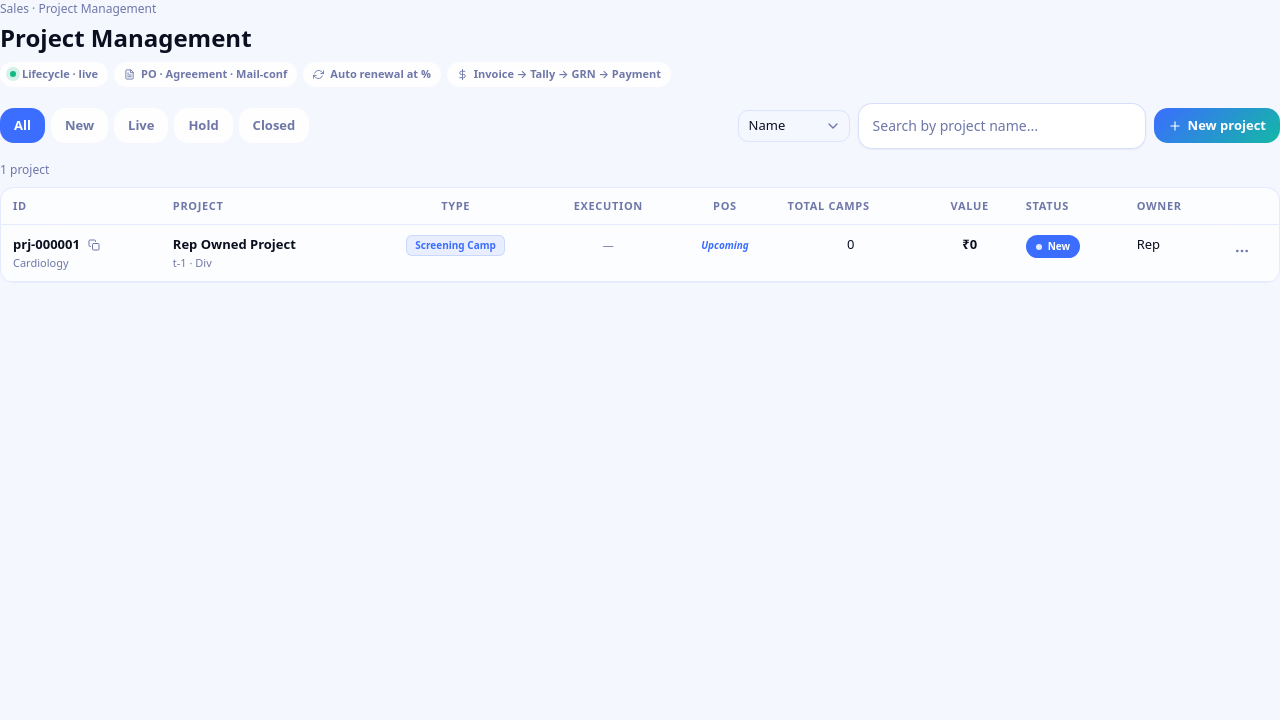
ProjectsPage — project:create-only session (a Sales Rep), distinct from project:manage › project:create AND project:update (the real Sales Rep grant): New project and Edit both show, Change status still does not
Expected: the button "New project" is shown, [1154,108,1279,143]
Expected: the text "Rep Owned Project" is shown, [173,235,296,253]
Click the button named "project actions": (1242, 251) [1226,235,1258,267]
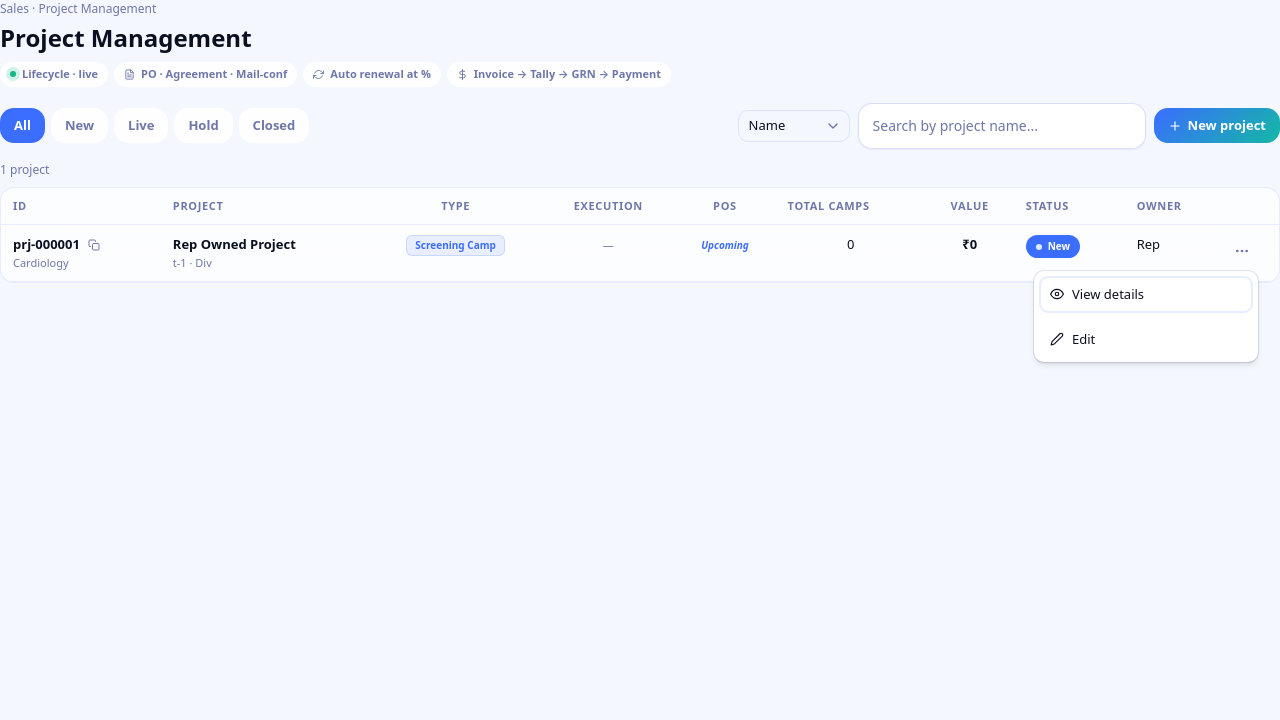
Expected: the button "Edit" is shown, [1040,322,1252,356]
